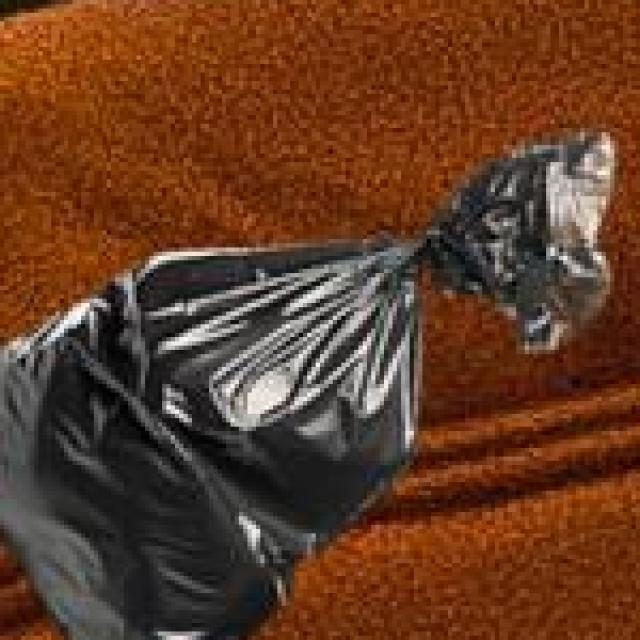Trashbag: (2, 232, 446, 550)
